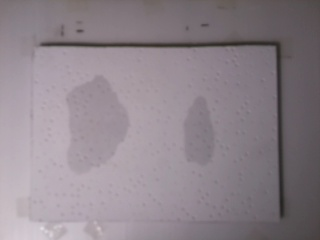Water_detected: (76, 98, 117, 163), (186, 123, 217, 153)
